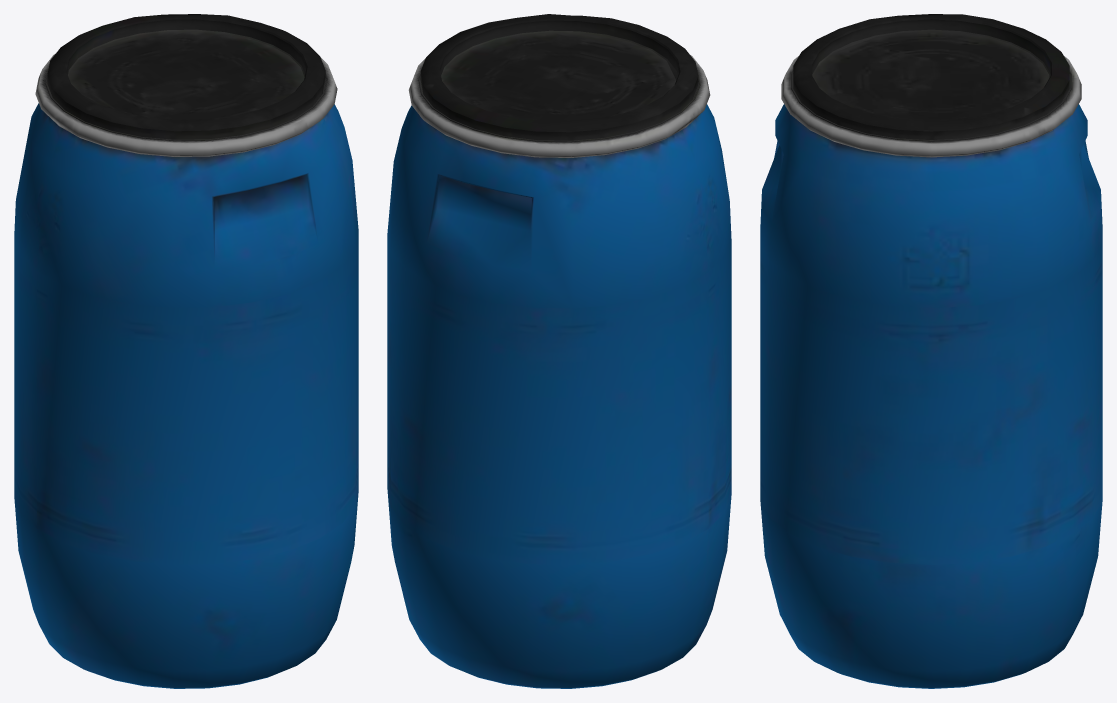
File: Barrel_02.glb
3 renders of one model, left to right at view 1: azimuth 30°, elevation 25°; view 2: azimuth 150°, elevation 25°; view 3: azimuth 270°, elevation 25°, orthographic.
Parts seen in each view (by area): view 1: Barrel_02; view 2: Barrel_02; view 3: Barrel_02.
Boxes of the visible parts, x1,y1,x2,y2 form: Barrel_02: (14,14,358,688); Barrel_02: (387,14,731,688); Barrel_02: (760,14,1102,688).
Bounding box in the file's own units: 0.4882 × 0.88 × 0.4846.
1 material, 1 textured.
